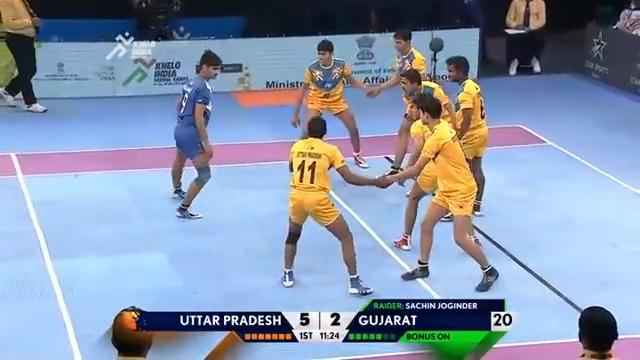Player: (389, 93, 499, 291), (280, 114, 399, 296), (390, 66, 458, 250), (290, 38, 370, 168), (365, 28, 428, 187), (440, 55, 488, 222), (0, 0, 48, 112)
Raider: (170, 49, 223, 219)
referee: (504, 0, 547, 75), (132, 0, 187, 41)
